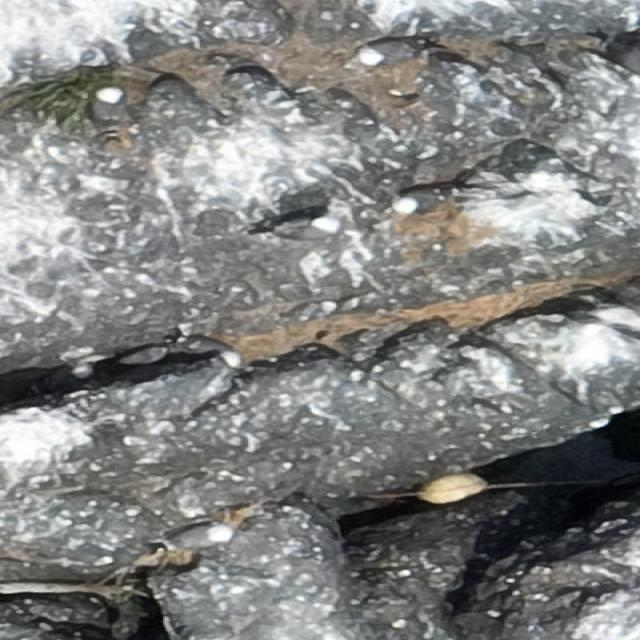umineko: (358, 37, 433, 70), (84, 86, 134, 130), (170, 525, 238, 553), (272, 216, 322, 238), (399, 191, 440, 212)
